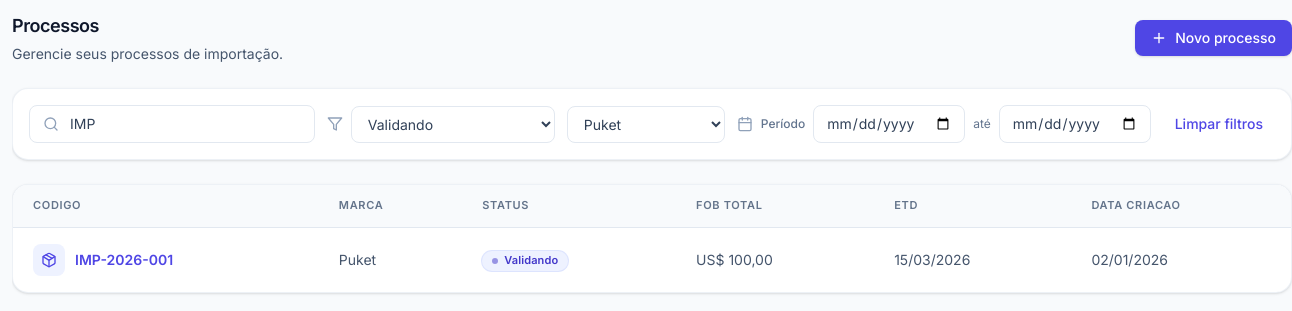
ProcessListPage — filtros na URL › "Limpar filtros" zera a URL e o campo de busca
This screenshot has width=1292, height=311.
Click the button "Limpar filtros" at (1219, 124), box [1163,106,1275,142]
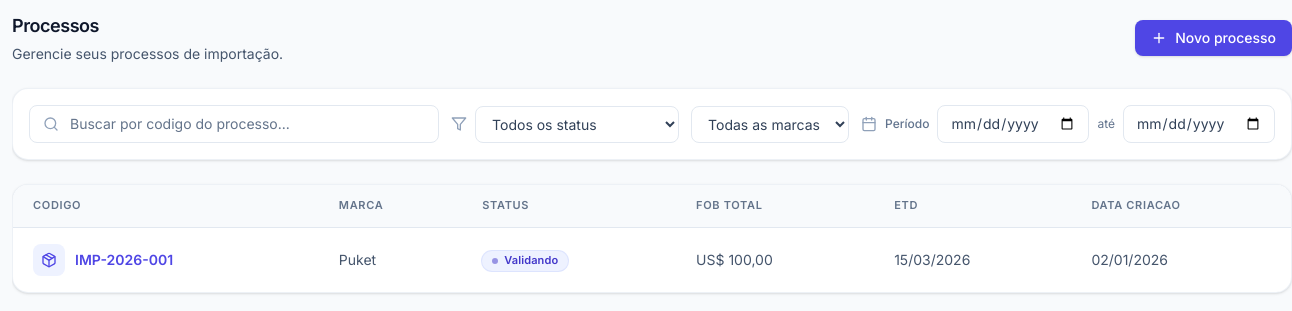
Now the field named "Buscar processo" is empty, box [29,105,439,143]
